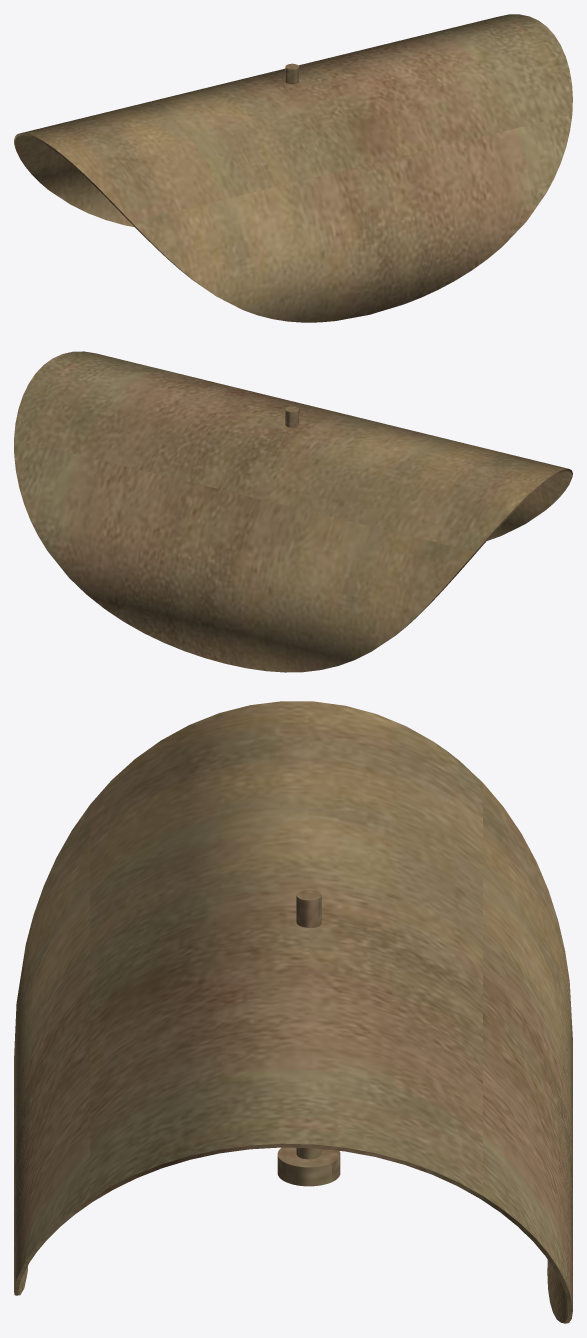
The model's file is SheddyHeadGold.glb.
The picture shows the model from 3 angles, top to bottom: view 1: azimuth 30°, elevation 25°; view 2: azimuth 150°, elevation 25°; view 3: azimuth 270°, elevation 25°; orthographic projection. The views are drawn at different scales.
Visible parts, largest first — view 1: Head; view 2: Head; view 3: Head.
Boxes of the visible parts, left/top/right/bottom form: Head: left=14, top=14, right=572, bottom=322; Head: left=14, top=351, right=572, bottom=672; Head: left=14, top=701, right=572, bottom=1323.
Size of the model in its own units: 0.3333 by 0.1328 by 0.1777.
Materials: 1 (1 with a texture image).
